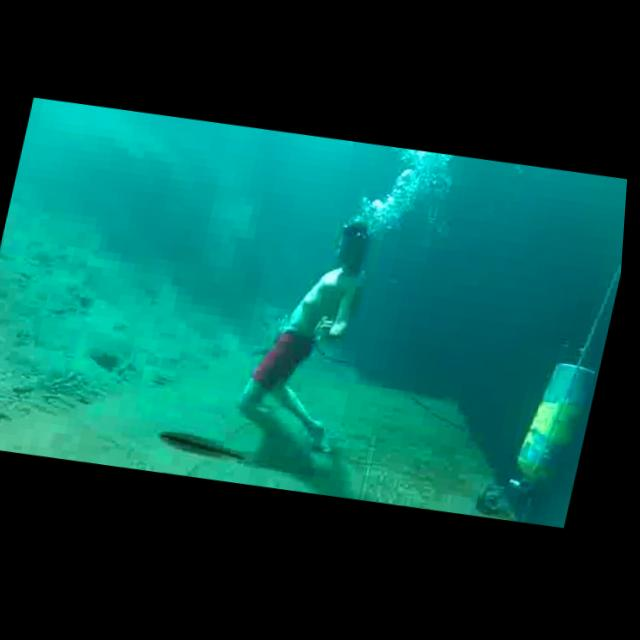human: (225, 208, 383, 481)
